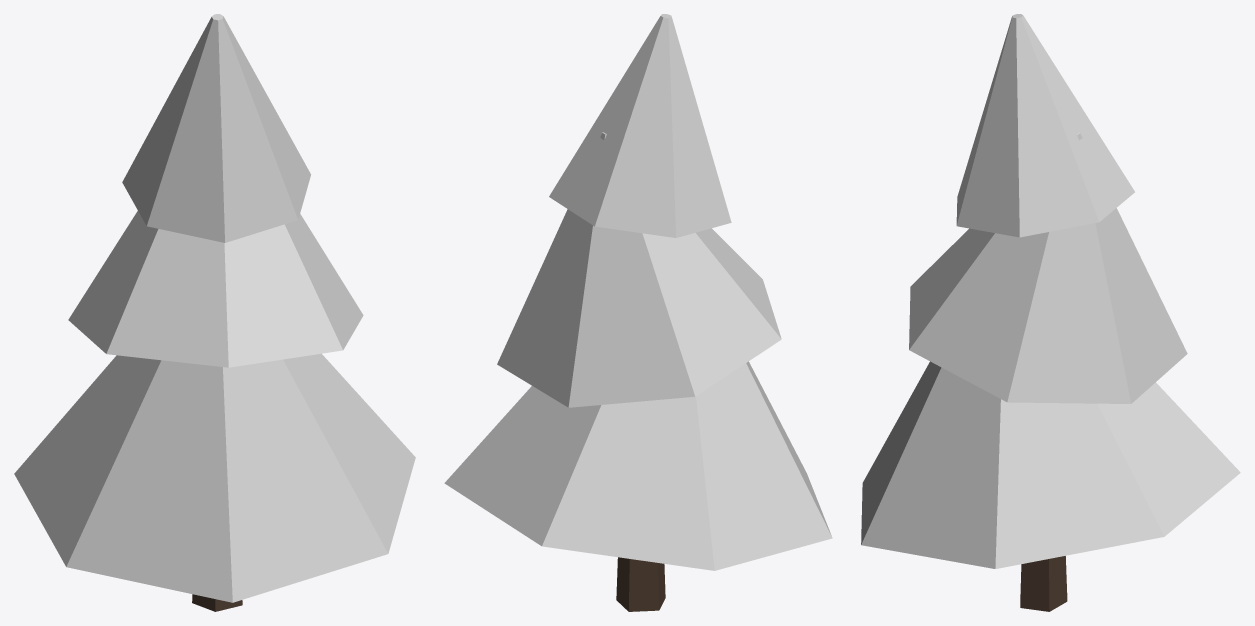
The model's file is tree_stack.glb.
The picture shows the model from 3 angles, left to right: view 1: azimuth 30°, elevation 25°; view 2: azimuth 150°, elevation 25°; view 3: azimuth 270°, elevation 25°; orthographic projection. The views are drawn at different scales.
Visible parts, largest first — view 1: tree_stack; view 2: tree_stack; view 3: tree_stack.
Part boxes in pixels (<box>): tree_stack: <box>14,14,415,611</box>; tree_stack: <box>444,14,832,611</box>; tree_stack: <box>861,14,1240,611</box>.
Size of the model in its own units: 3.31 by 5.42 by 3.21.
